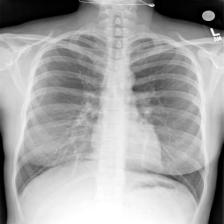normal: (10, 28, 212, 215)
